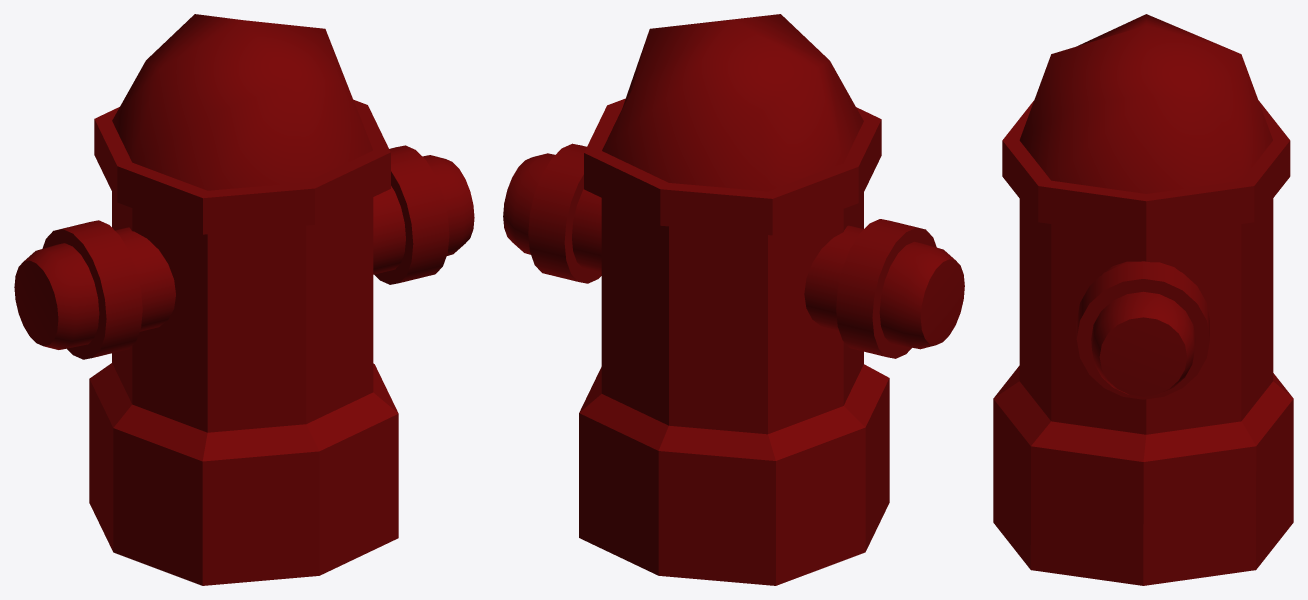
Rendered from FireHydrant.fbx.
3 views of the same model, side by side, from view 1: azimuth 30°, elevation 25°; view 2: azimuth 150°, elevation 25°; view 3: azimuth 270°, elevation 25° (orthographic).
Visible parts, largest first — view 1: polySurface64, polySurface66, polySurface65; view 2: polySurface64, polySurface66, polySurface65; view 3: polySurface64, polySurface65.
Boxes of the visible parts, x1,y1,x2,y2 form: polySurface64: (89,14,398,585); polySurface66: (14,220,175,359); polySurface65: (373,145,474,284); polySurface64: (579,14,889,585); polySurface66: (804,219,964,358); polySurface65: (503,143,601,283); polySurface64: (993,14,1293,585); polySurface65: (1076,261,1209,399).
Bounding box in the file's own units: 0.3095 × 0.3526 × 0.1931.
